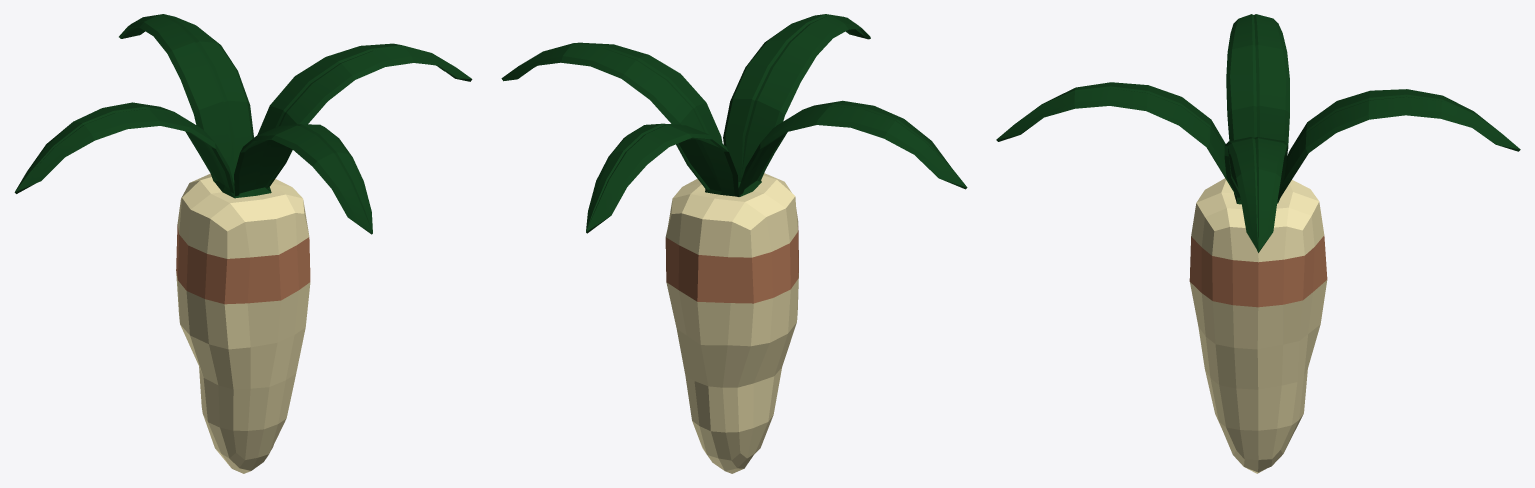
File: SugarBeet.fbx
3 renders of one model, left to right at view 1: azimuth 30°, elevation 25°; view 2: azimuth 150°, elevation 25°; view 3: azimuth 270°, elevation 25°, orthographic. The views are drawn at different scales.
Visible parts, largest first — view 1: SugarBeetBox; view 2: SugarBeetBox; view 3: SugarBeetBox.
Boxes of the visible parts, bbox=[...] form: SugarBeetBox: bbox=[14, 14, 472, 473]; SugarBeetBox: bbox=[501, 14, 967, 473]; SugarBeetBox: bbox=[996, 14, 1520, 473].
Bounding box in the file's own units: 39.37 × 32.21 × 39.63.
